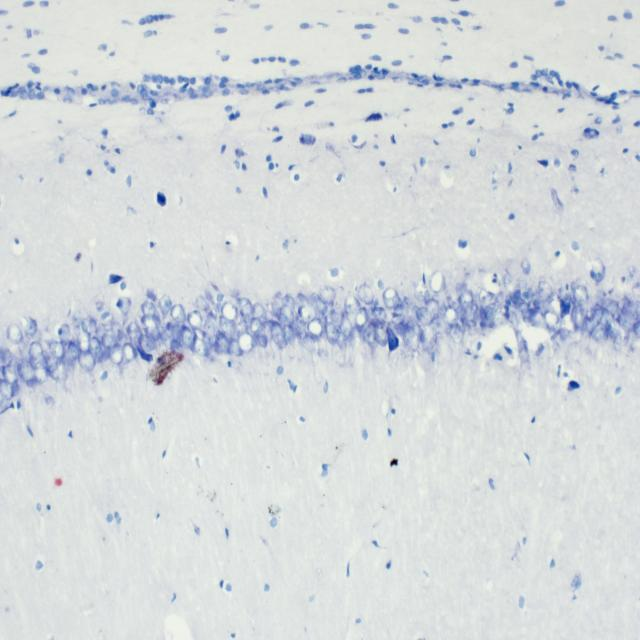neuron: (266, 318, 288, 349), (608, 318, 630, 347), (586, 302, 602, 338), (200, 314, 217, 346), (127, 320, 143, 350), (560, 312, 576, 342), (18, 360, 35, 388), (419, 323, 437, 349), (237, 296, 254, 323), (29, 340, 44, 370), (544, 310, 566, 330), (309, 292, 327, 316), (620, 308, 637, 333), (357, 282, 374, 306), (137, 333, 156, 354), (141, 300, 160, 321), (78, 350, 96, 372), (218, 315, 236, 337), (529, 306, 547, 328), (166, 319, 183, 342), (238, 331, 255, 354), (347, 324, 362, 350), (279, 304, 295, 328), (414, 279, 430, 303), (429, 270, 445, 294), (573, 283, 589, 307), (298, 302, 317, 322), (571, 304, 586, 329), (216, 330, 230, 356), (325, 320, 339, 346), (591, 257, 605, 283), (221, 301, 238, 322), (101, 329, 117, 351), (160, 328, 176, 350), (382, 286, 398, 308), (424, 297, 440, 319), (34, 359, 48, 384), (6, 324, 23, 344), (170, 304, 187, 324), (344, 294, 361, 314), (442, 306, 459, 326), (76, 329, 90, 353), (81, 315, 97, 336), (187, 309, 203, 330), (302, 331, 316, 355), (353, 306, 368, 328), (283, 322, 296, 347), (319, 285, 336, 304), (330, 305, 344, 328), (449, 322, 463, 345), (307, 318, 323, 338), (458, 290, 474, 310), (0, 379, 15, 400), (180, 325, 193, 349), (538, 279, 552, 301), (600, 306, 614, 328), (140, 314, 158, 331), (49, 340, 65, 359), (192, 337, 208, 356), (43, 351, 58, 371), (122, 342, 137, 362), (252, 303, 267, 323), (340, 312, 352, 337), (372, 306, 387, 326), (363, 323, 378, 343), (406, 303, 421, 323), (417, 307, 432, 327), (110, 320, 124, 341), (289, 319, 306, 336), (24, 316, 37, 338), (159, 294, 172, 316), (2, 364, 16, 384), (360, 341, 374, 361), (0, 346, 13, 367), (375, 326, 388, 347), (144, 324, 160, 341), (170, 338, 184, 357), (110, 344, 123, 364), (230, 338, 243, 358), (271, 295, 284, 315), (59, 323, 70, 346), (68, 341, 80, 362), (117, 296, 131, 314), (403, 322, 412, 350), (592, 327, 606, 345), (95, 321, 106, 343), (250, 317, 262, 337), (393, 322, 408, 337), (47, 364, 60, 380), (196, 295, 208, 312), (394, 302, 404, 322), (281, 294, 295, 308), (90, 336, 100, 355), (521, 258, 532, 275), (337, 331, 347, 349), (258, 331, 268, 348), (479, 287, 489, 304), (522, 290, 530, 300)
